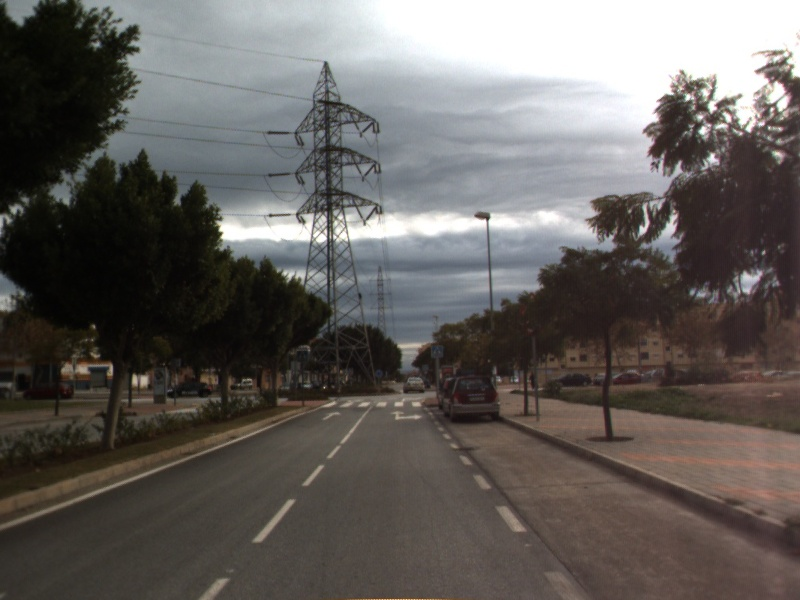STRAIGHT: (320, 409, 343, 422)
STRAIGHT_RIGHT: (388, 409, 424, 422)
